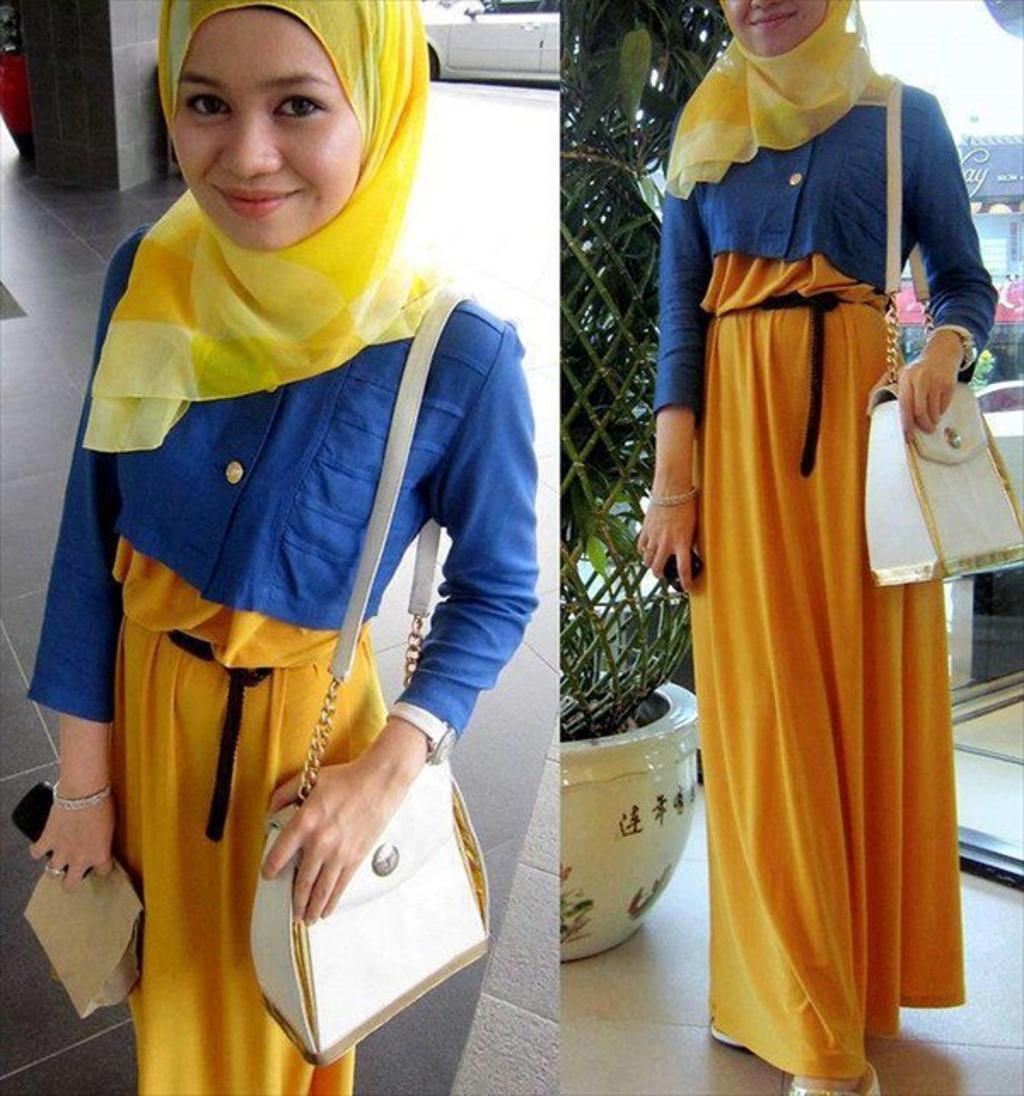face: (177, 9, 367, 255), (725, 1, 829, 59)
